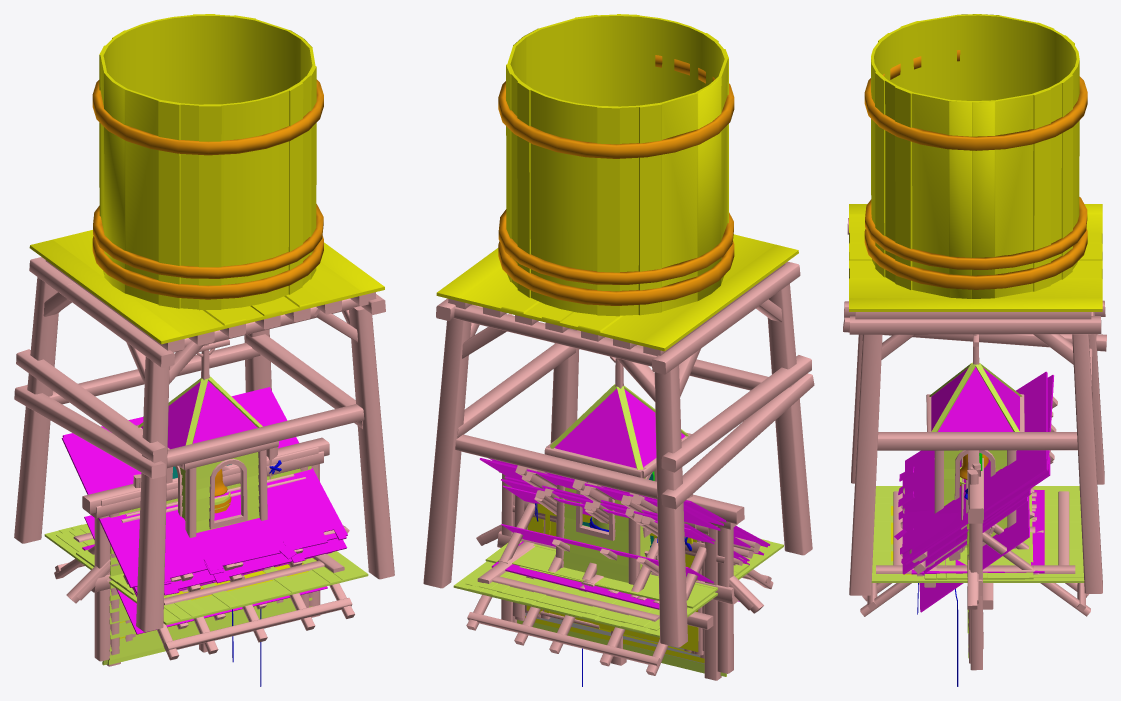
Rendered from townKitset.fbx.
3 renders of one model, left to right at view 1: azimuth 30°, elevation 25°; view 2: azimuth 150°, elevation 25°; view 3: azimuth 270°, elevation 25°, orthographic. The views are drawn at different scales.
Parts seen in each view (by area): view 1: waterTower, roof8, churchTower, roof7, wall17, floor3, shellRoof, roof6, wall18, shellRafter, wall16, roof4 (+3 smaller); view 2: waterTower, churchTower, shellRoof, wall16, floor2, floor3, roof6, wall18, shellRafter, deck, wall11, roof4 (+10 smaller); view 3: waterTower, churchTower, roof8, floor3, roof7, floor2, shellRoof, shellRafter, wall16, roof4, roof6, deckRoof (+5 smaller).
Boxes of the visible parts, <box> form: waterTower: <box>14,14,394,631</box>; roof8: <box>61,387,347,587</box>; churchTower: <box>136,339,278,537</box>; roof7: <box>62,417,346,584</box>; wall17: <box>89,451,323,660</box>; floor3: <box>44,524,368,625</box>; shellRoof: <box>54,546,354,660</box>; roof6: <box>133,538,346,595</box>; wall18: <box>94,464,319,661</box>; shellRafter: <box>73,532,344,605</box>; wall16: <box>82,437,329,666</box>; roof4: <box>84,515,327,634</box>; waterTower: <box>423,14,814,647</box>; churchTower: <box>544,356,691,584</box>; shellRoof: <box>466,501,773,675</box>; wall16: <box>501,473,744,680</box>; floor2: <box>465,563,687,630</box>; floor3: <box>453,539,783,637</box>; roof6: <box>479,458,763,558</box>; wall18: <box>512,494,733,673</box>; shellRafter: <box>477,545,659,621</box>; deck: <box>485,541,749,608</box>; wall11: <box>526,514,698,651</box>; roof4: <box>501,524,739,601</box>; waterTower: <box>843,14,1106,595</box>; churchTower: <box>926,334,1024,548</box>; roof8: <box>900,371,1050,564</box>; floor3: <box>871,486,1084,582</box>; roof7: <box>894,375,1057,563</box>; floor2: <box>874,489,1083,577</box>; shellRoof: <box>860,488,1090,616</box>; shellRafter: <box>876,491,1075,573</box>; wall16: <box>969,458,983,670</box>; roof4: <box>919,489,1034,612</box>; roof6: <box>898,411,1053,574</box>; deckRoof: <box>911,490,1044,576</box>.
Size of the model in its own units: 5.95 by 12.87 by 5.06.
